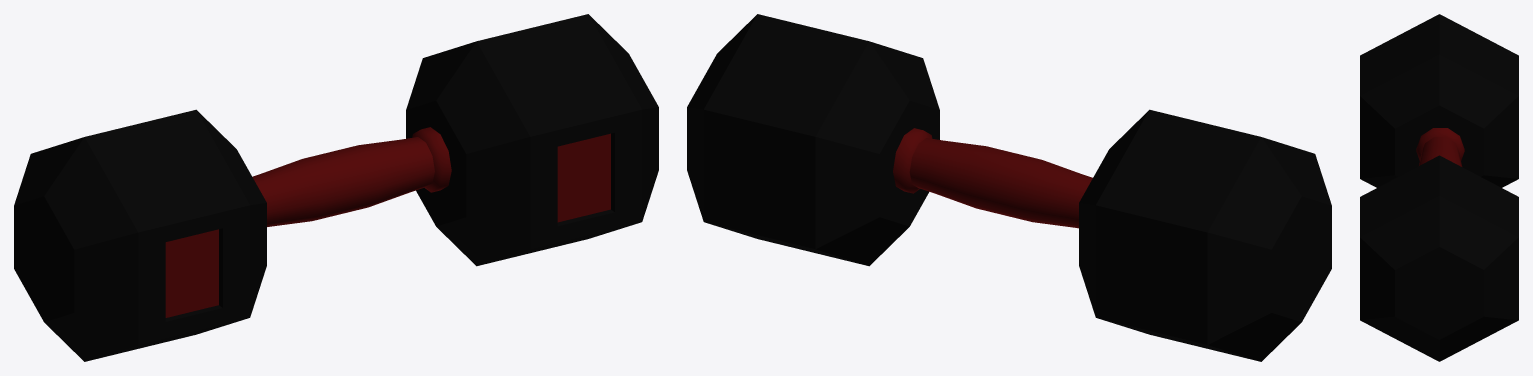
File: Dumbell.fbx
3 renders of one model, left to right at view 1: azimuth 30°, elevation 25°; view 2: azimuth 150°, elevation 25°; view 3: azimuth 270°, elevation 25°, orthographic. The views are drawn at different scales.
Visible parts, largest first — view 1: SM_Dumbell; view 2: SM_Dumbell; view 3: SM_Dumbell.
Part boxes in pixels (bbox=[...]): SM_Dumbell: bbox=[14, 14, 658, 361]; SM_Dumbell: bbox=[687, 14, 1331, 361]; SM_Dumbell: bbox=[1360, 14, 1518, 361].
Size of the model in its own units: 2.22 by 0.7078 by 0.8173.
